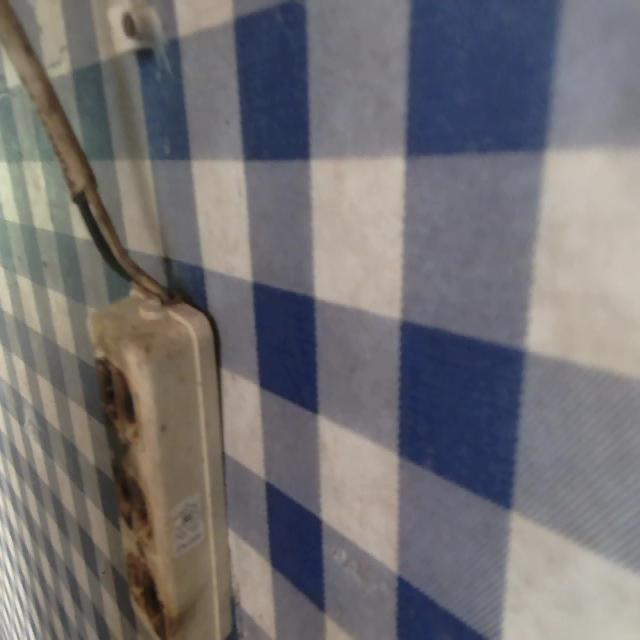-: (91, 348, 142, 435), (109, 456, 152, 540), (123, 554, 165, 638)
